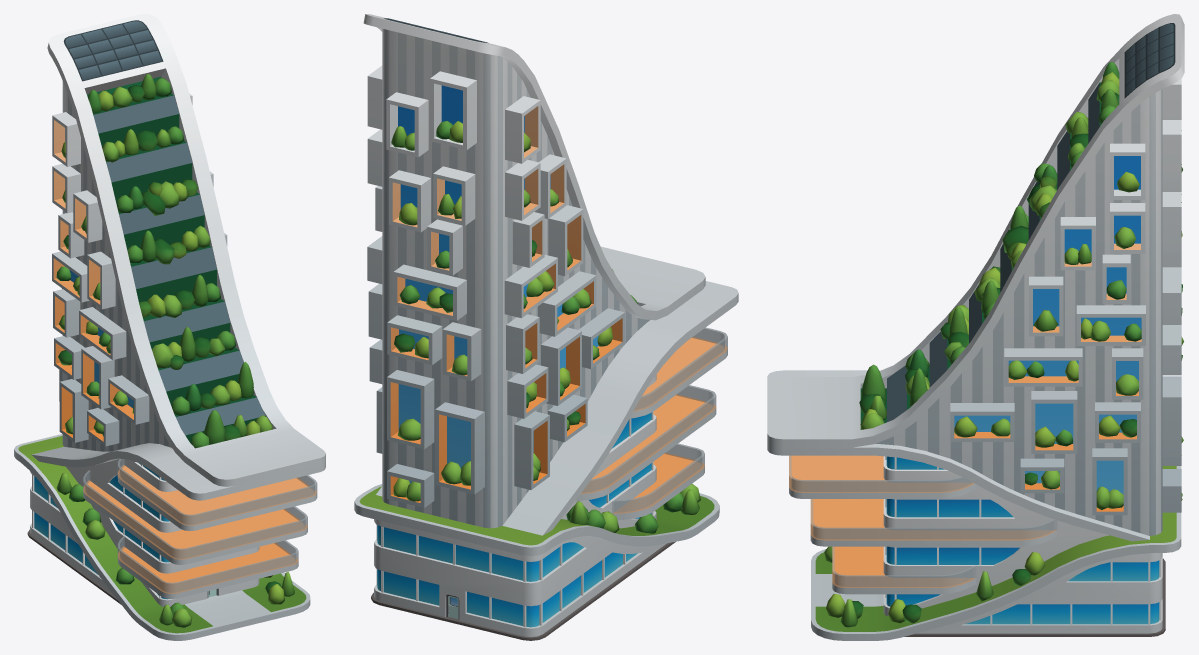
File: Eco_Building_Slope.glb
3 renders of one model, left to right at view 1: azimuth 30°, elevation 25°; view 2: azimuth 150°, elevation 25°; view 3: azimuth 270°, elevation 25°, orthographic. The views are drawn at different scales.
Visible parts, largest first — view 1: Eco_Building_Slope; view 2: Eco_Building_Slope; view 3: Eco_Building_Slope.
Part boxes in pixels (x1=…): Eco_Building_Slope: x1=14, y1=14, x2=325, y2=640; Eco_Building_Slope: x1=354, y1=14, x2=738, y2=640; Eco_Building_Slope: x1=767, y1=14, x2=1184, y2=640.
Bounding box in the file's own units: 19.24 × 57.39 × 38.5.
3 materials, 3 textured.
